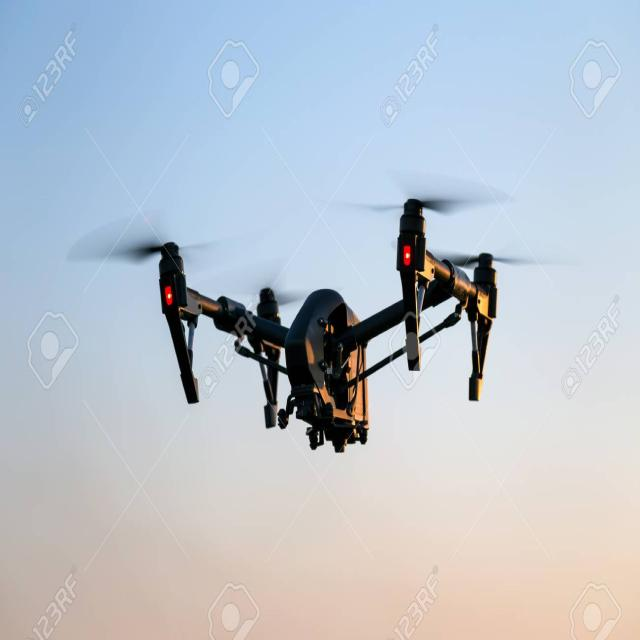drone: (142, 201, 523, 460)
